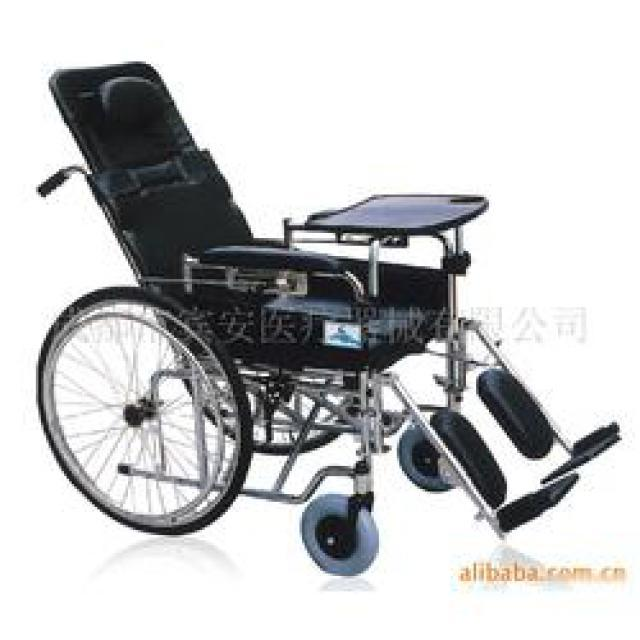wheelchair: (18, 46, 622, 545)
